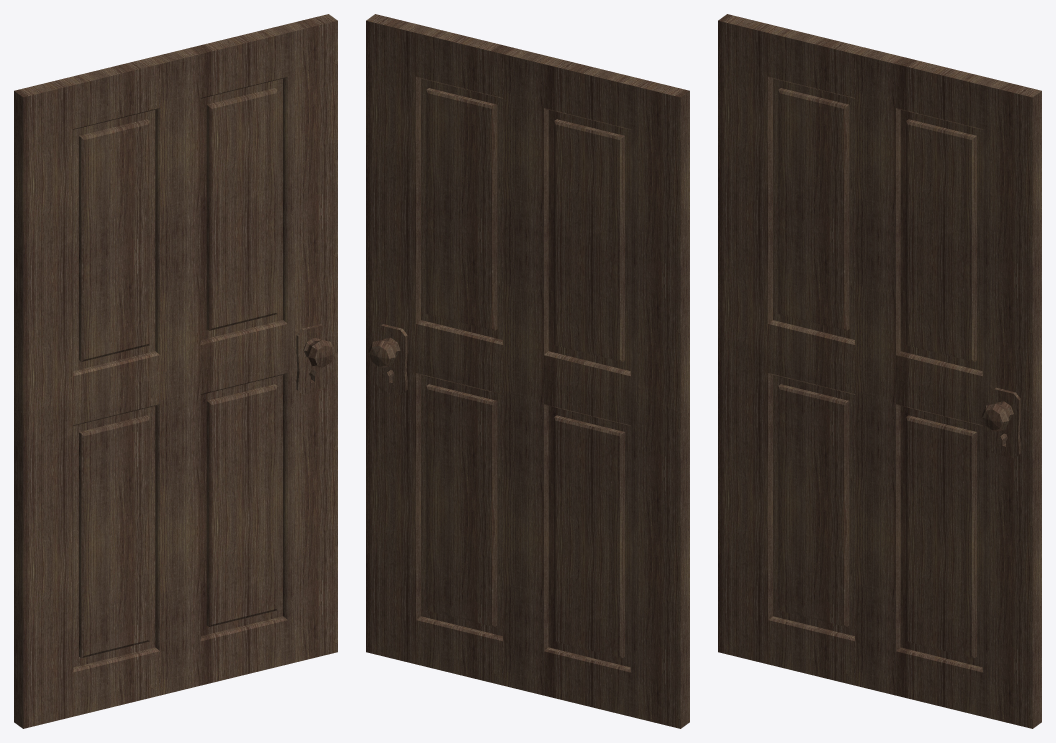
Rendered from Tuer.fbx.
3 views of the same model, side by side, from view 1: azimuth 30°, elevation 25°; view 2: azimuth 150°, elevation 25°; view 3: azimuth 330°, elevation 25° (orthographic).
Parts seen in each view (by area): view 1: Tuer; view 2: Tuer; view 3: Tuer.
Part boxes in pixels (x1,y1,x2,y2): Tuer: (14,14,337,728); Tuer: (366,14,689,728); Tuer: (718,14,1041,728).
Bounding box in the file's own units: 102 × 196 × 21.72.
1 material, 1 textured.
